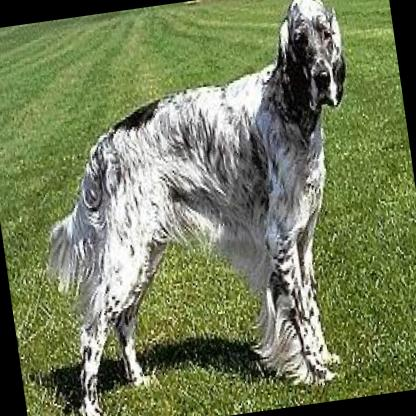English_setter: (11, 0, 388, 416)
